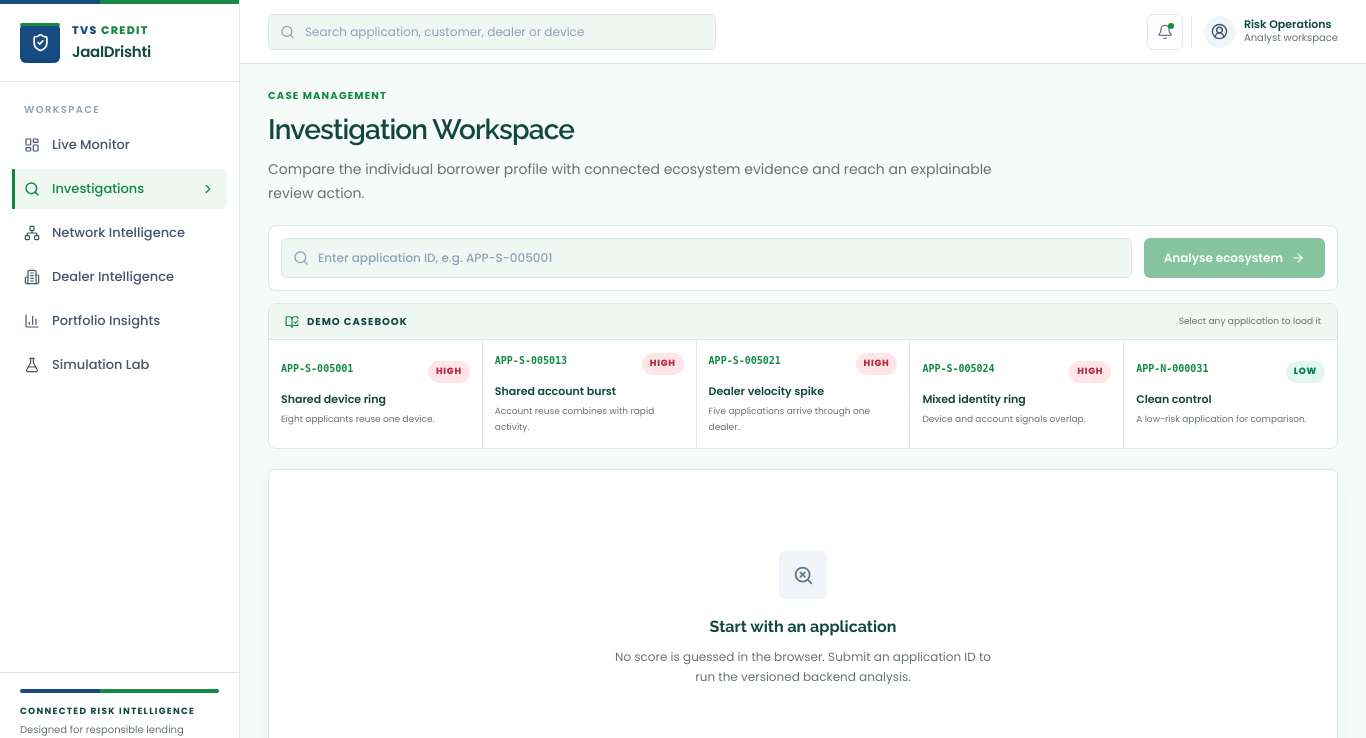
application investigation › presents the clean control as a standard-processing comparison
Click the button with aria-label "Load APP-N-000031: Clean control": (1231, 394) [1124,340,1337,448]
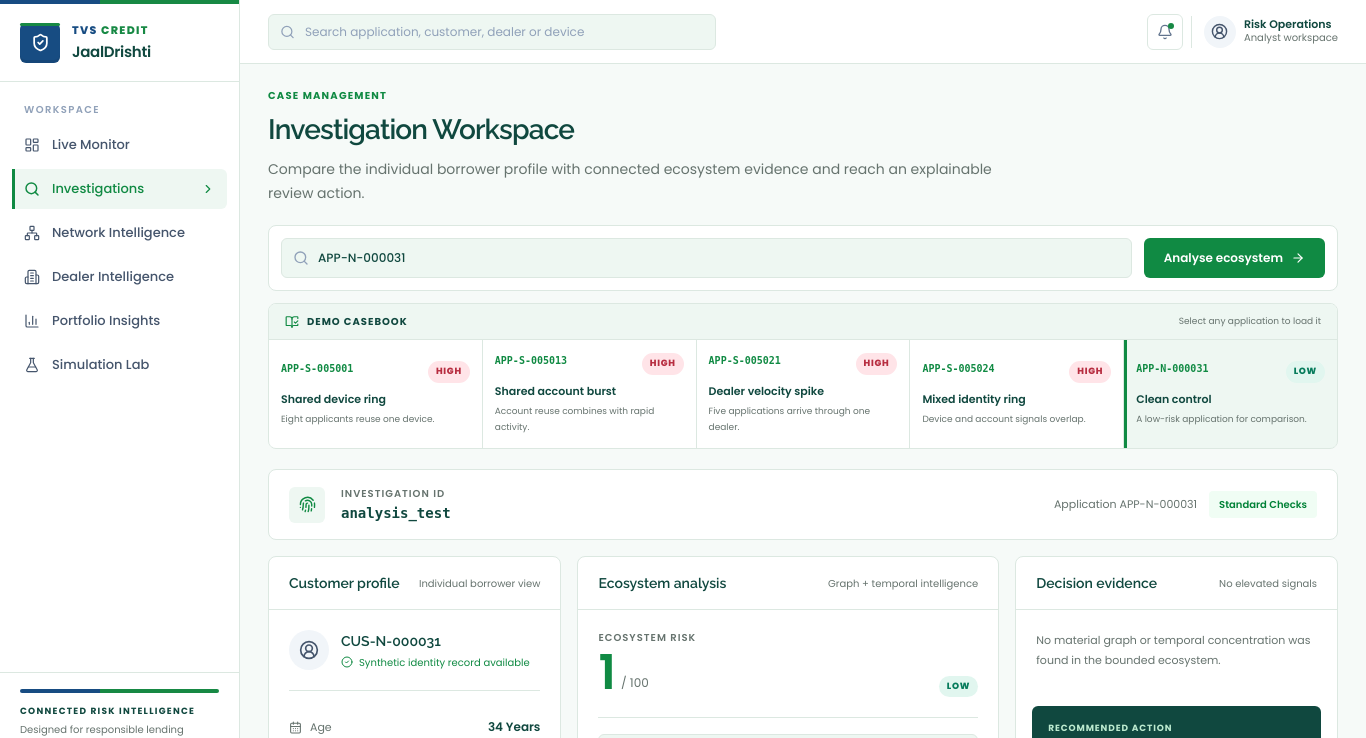
Check: the text "Standard Checks" is shown, box [1209,491,1317,518]
Check: the text "No material graph or temporal concentration" is shown, box [1036,632,1310,668]
